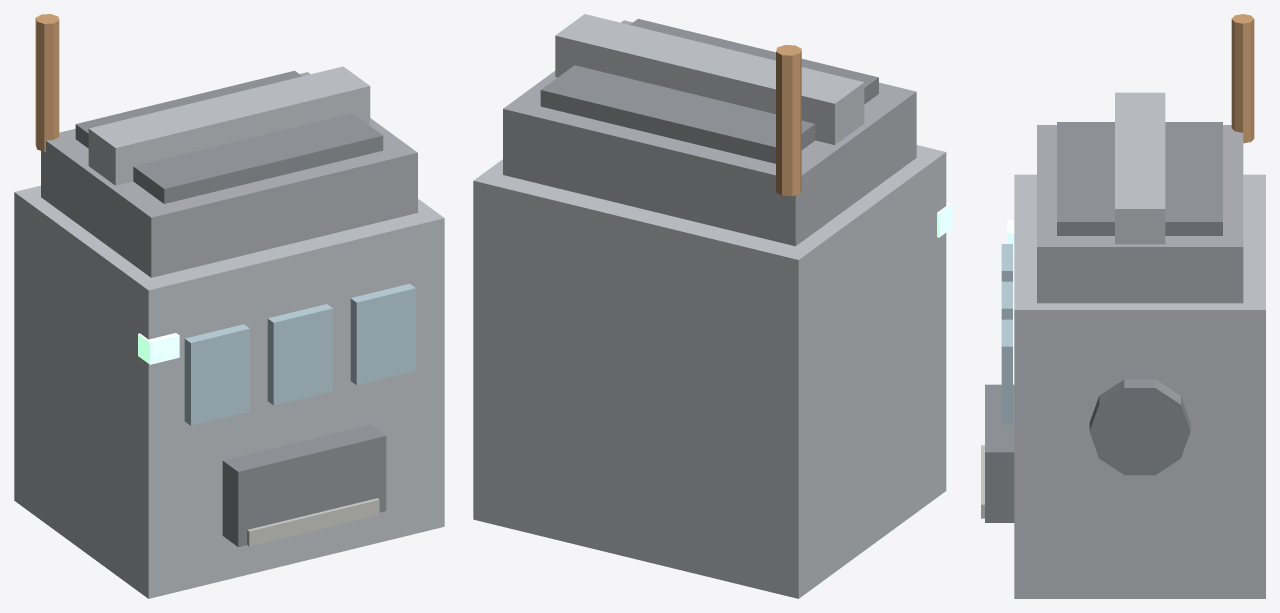
Rendered from hitech_recycler.glb.
The picture shows the model from 3 angles, left to right: view 1: azimuth 30°, elevation 25°; view 2: azimuth 150°, elevation 25°; view 3: azimuth 270°, elevation 25°; orthographic projection. The views are drawn at different scales.
Parts seen in each view (by area): view 1: hitech_recycler; view 2: hitech_recycler; view 3: hitech_recycler.
Boxes of the visible parts, box(x1,y1,x2,y2) form: hitech_recycler: box(14, 14, 444, 598); hitech_recycler: box(473, 14, 952, 598); hitech_recycler: box(981, 14, 1265, 598).
Size of the model in its own units: 1.5 by 2.19 by 1.25.
